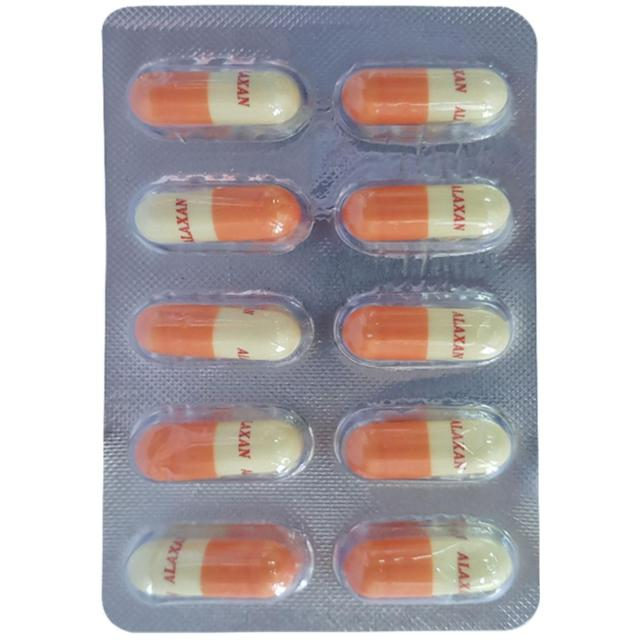blister: (99, 0, 548, 638)
